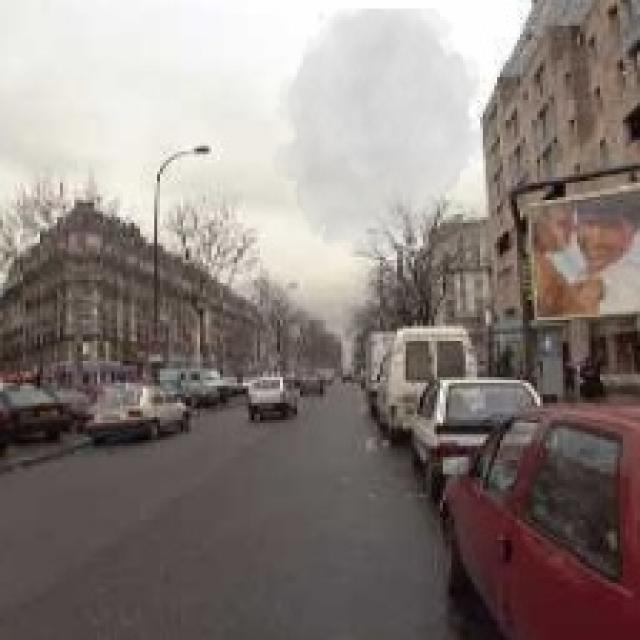smoke: (272, 9, 488, 257)
